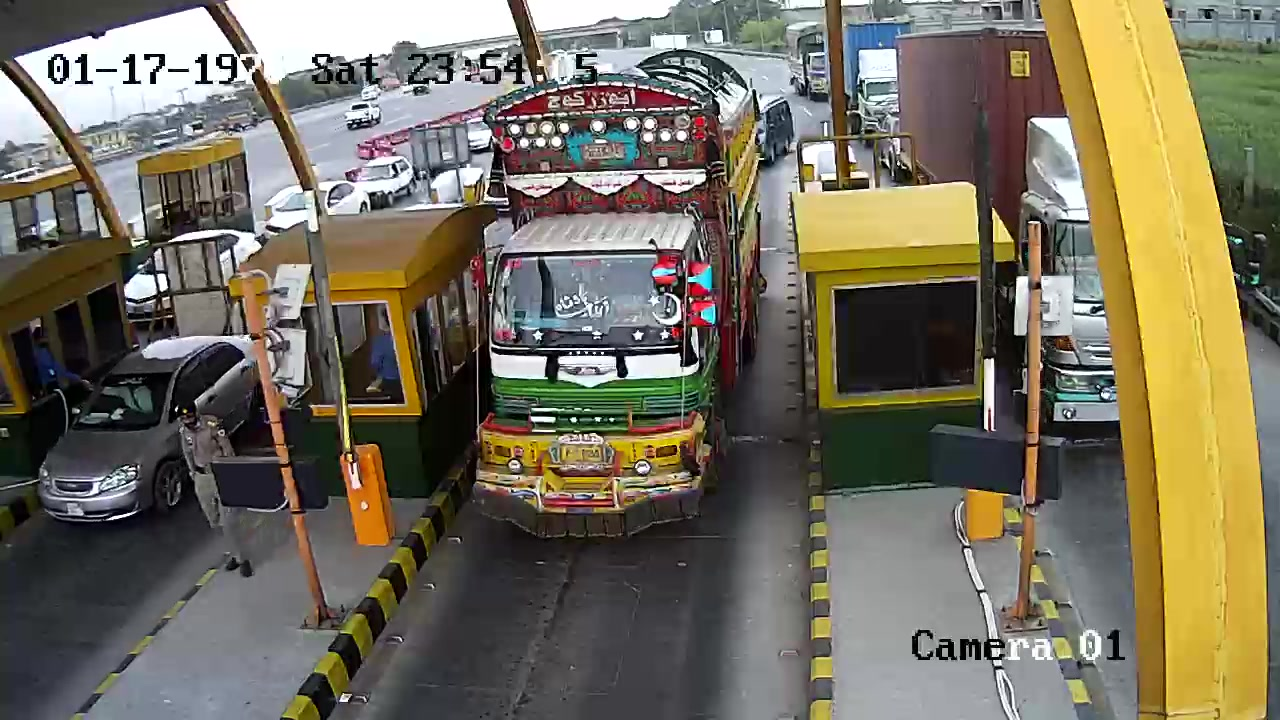F5: (472, 31, 783, 532)
